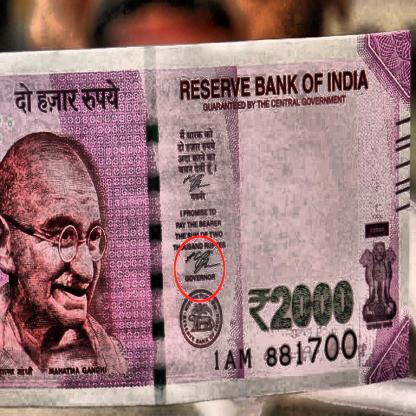Rs2000: (246, 274, 359, 337)
